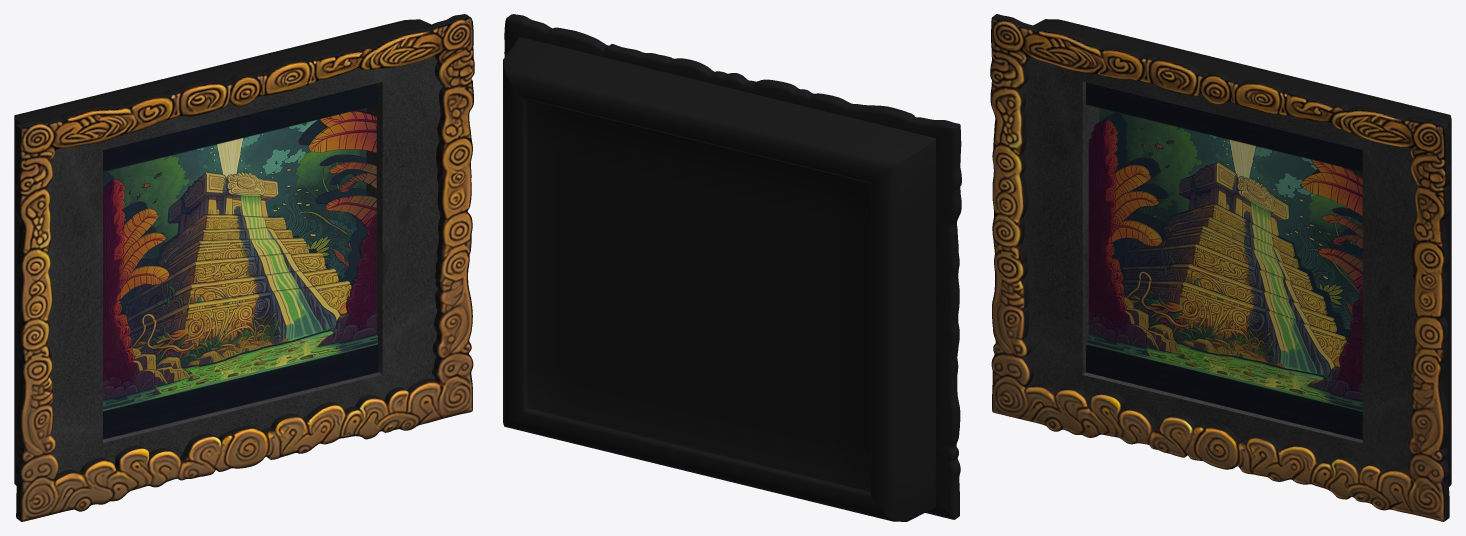
File: innovarteca-57.glb
3 renders of one model, left to right at view 1: azimuth 30°, elevation 25°; view 2: azimuth 150°, elevation 25°; view 3: azimuth 330°, elevation 25°, orthographic.
Parts seen in each view (by area): view 1: Marco3, Paper3, capa0, capa8, capa10, capa7, capa9, capa1, capa5, capa6, capa4, capa2 (+1 smaller); view 2: Marco3; view 3: Marco3, Paper3, capa0, capa8, capa10, capa7, capa9, capa1, capa5, capa6, capa4, capa2 (+1 smaller).
Part boxes in pixels (bbox=[...]): Marco3: bbox=[14, 14, 474, 521]; Paper3: bbox=[46, 55, 442, 474]; capa0: bbox=[103, 108, 366, 411]; capa8: bbox=[103, 110, 376, 399]; capa10: bbox=[103, 83, 379, 439]; capa7: bbox=[128, 280, 353, 373]; capa9: bbox=[103, 331, 377, 411]; capa1: bbox=[167, 172, 278, 234]; capa5: bbox=[121, 252, 326, 317]; capa6: bbox=[127, 268, 338, 329]; capa4: bbox=[132, 238, 309, 296]; capa2: bbox=[160, 214, 286, 256]; Marco3: bbox=[503, 14, 961, 521]; Marco3: bbox=[990, 14, 1451, 521]; Paper3: bbox=[1022, 57, 1418, 470]; capa0: bbox=[1099, 107, 1362, 411]; capa8: bbox=[1088, 119, 1362, 401]; capa10: bbox=[1086, 82, 1362, 439]; capa7: bbox=[1121, 279, 1347, 378]; capa9: bbox=[1087, 333, 1362, 411]; capa1: bbox=[1178, 162, 1289, 236]; capa5: bbox=[1121, 243, 1327, 315]; capa6: bbox=[1122, 263, 1336, 333]; capa4: bbox=[1135, 225, 1312, 290]; capa2: bbox=[1168, 203, 1294, 257].
Size of the model in its own units: 2.44 by 2.05 by 0.3677.
13 materials, 13 textured.
